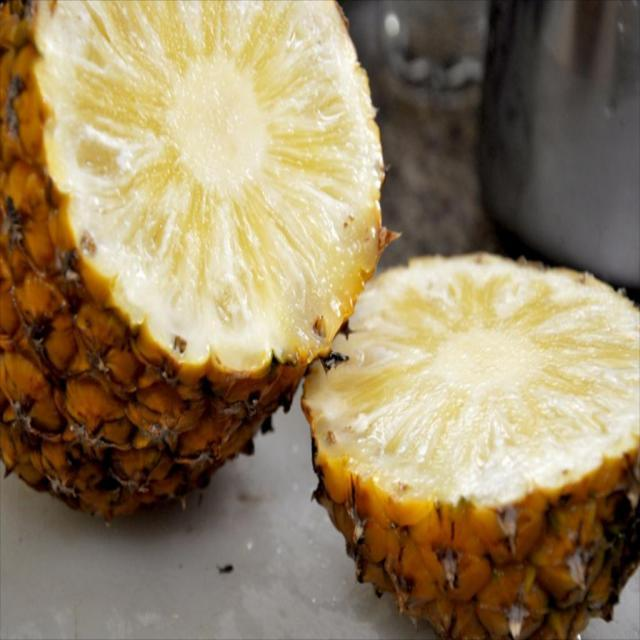Non_Gorille: (12, 0, 640, 640)
